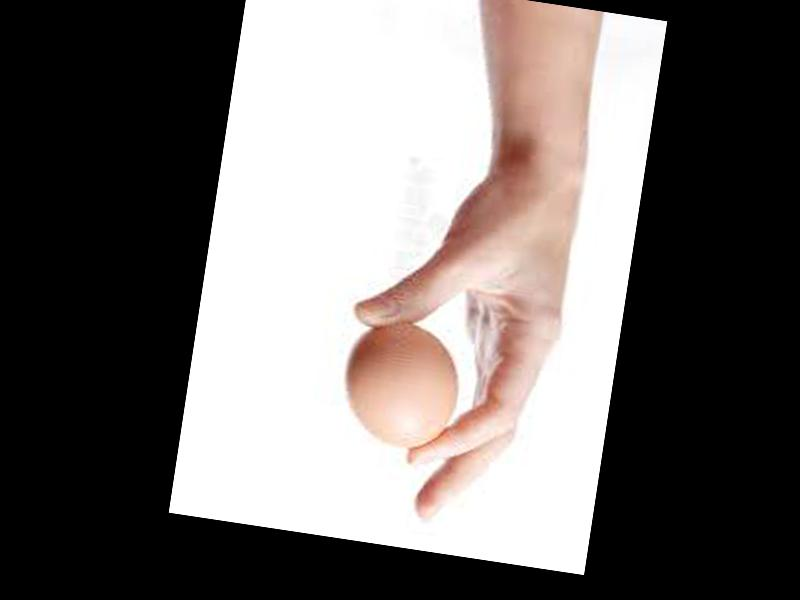Eggs: (337, 313, 464, 453)
